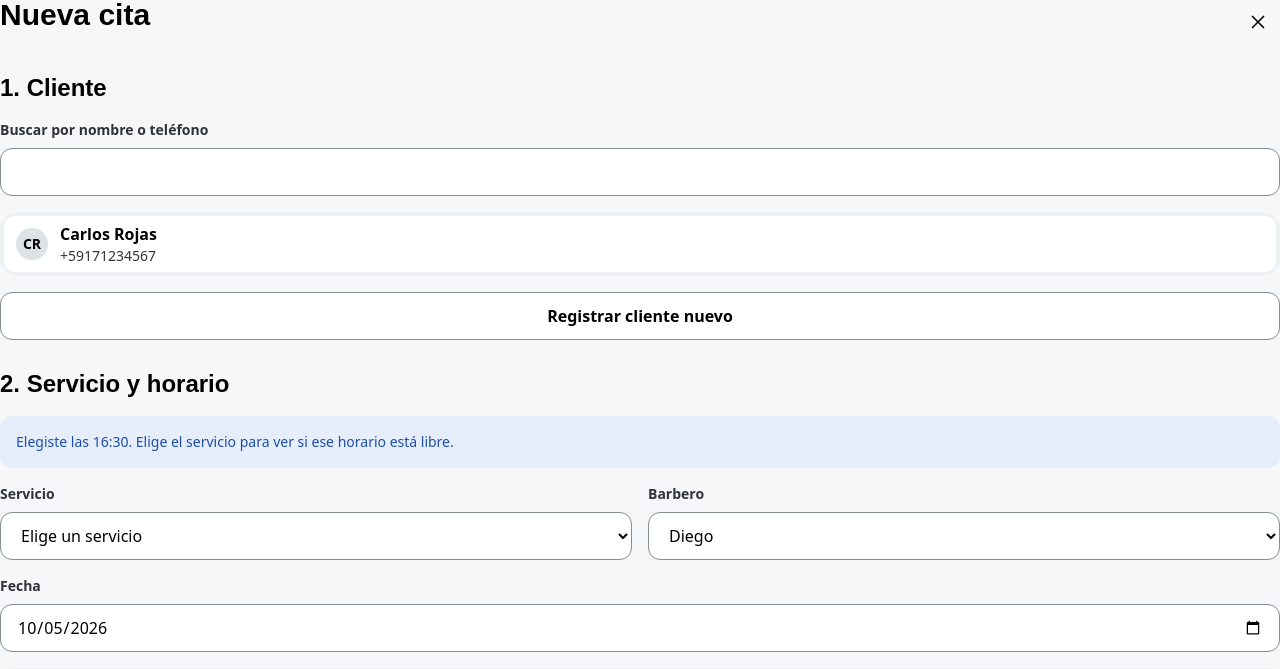
Test: AppointmentEditor › says when the tapped time is not free for the chosen service
The width and height of the screenshot is (1280, 669).
Select "Corte clásico" in the dropdown labelled "Servicio": (316, 536) [0,512,632,560]
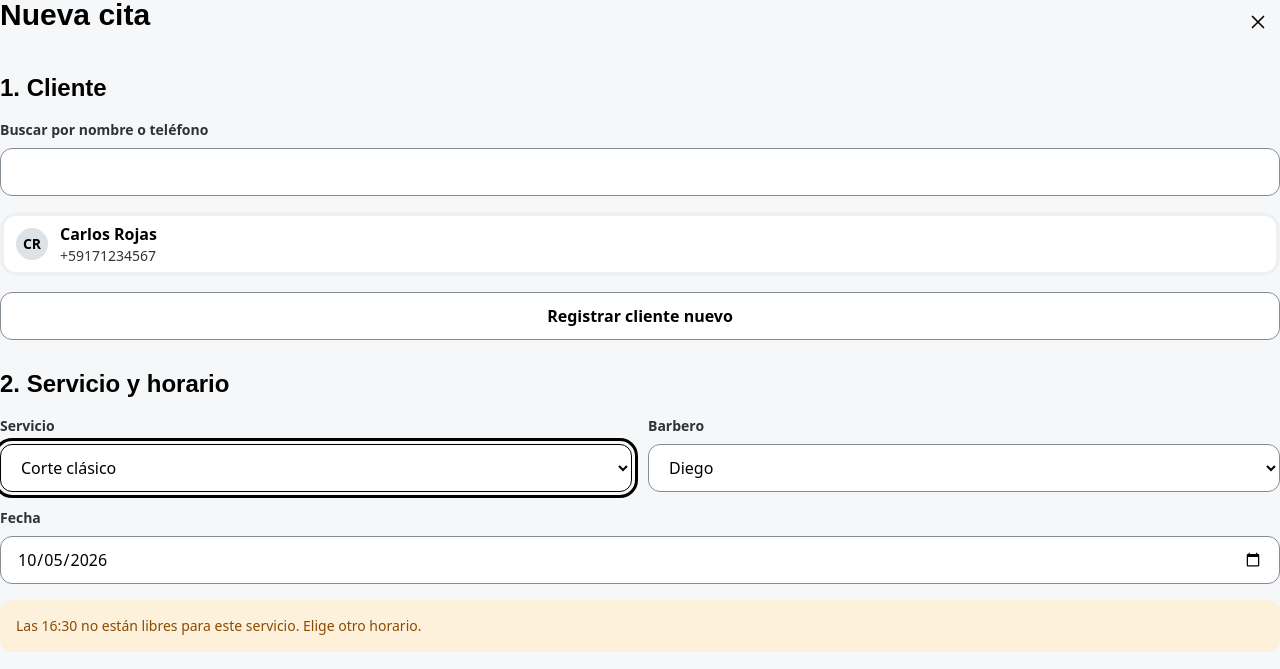
Now the text "Las 16:30 no están libres para este servicio. Elige otro horario." is shown, box [0,600,1279,652]
